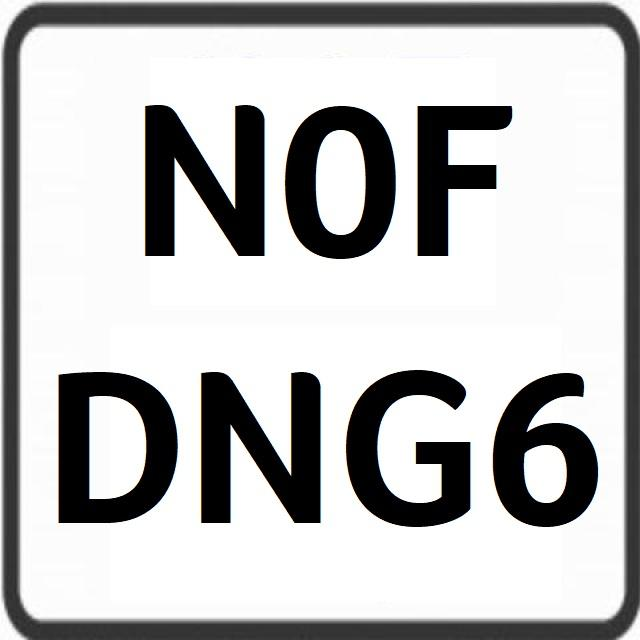D: (48, 360, 181, 554), (285, 80, 397, 266)
F: (408, 68, 512, 267)
G: (344, 358, 476, 549), (493, 344, 607, 536)
N: (139, 67, 274, 270), (198, 343, 330, 543)
